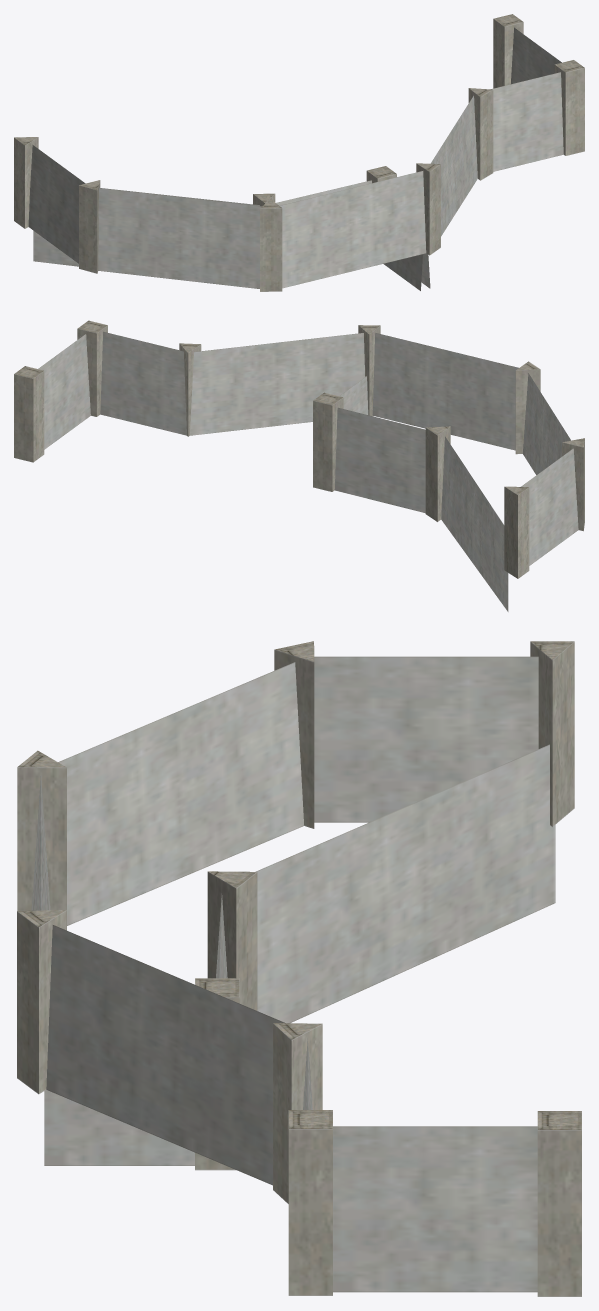
The model's file is poi_corl_corral_half_32x32_s02_l1.fbx.
The picture shows the model from 3 angles, top to bottom: view 1: azimuth 30°, elevation 25°; view 2: azimuth 150°, elevation 25°; view 3: azimuth 270°, elevation 25°; orthographic projection. The views are drawn at different scales.
Visible parts, largest first — view 1: mesh_node; view 2: mesh_node; view 3: mesh_node.
Boxes of the visible parts, x1,y1,x2,y2 form: mesh_node: [14, 14, 584, 291]; mesh_node: [14, 320, 584, 611]; mesh_node: [17, 641, 581, 1296].
Bounding box in the file's own units: 26.02 × 6.15 × 12.71.
